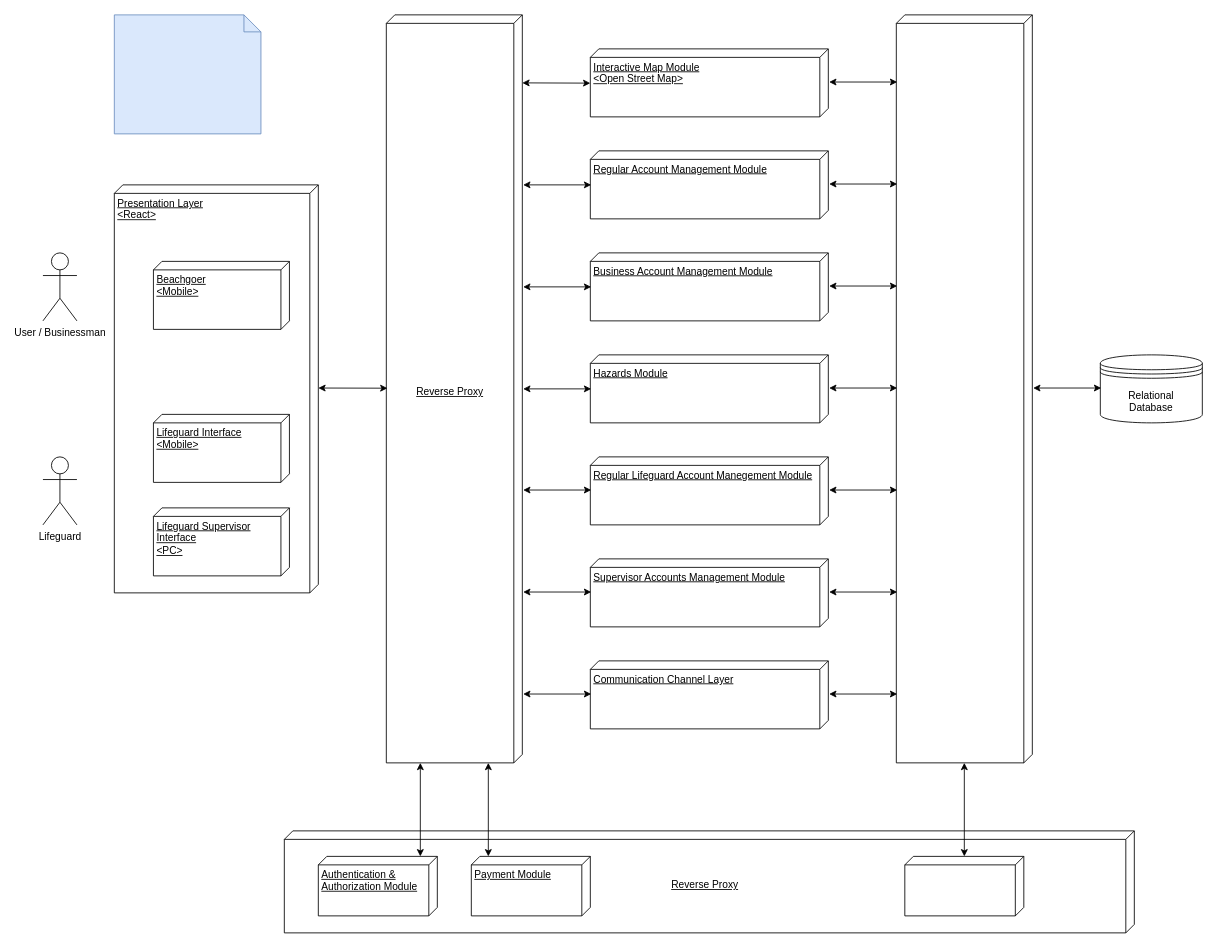
Some shapes in this 1217 by 948 pixel diagram are drawn without their labels. The centre of each missing label's shape, as x and y in pixels:
Open Street Map: [964,886]
Query Queue: [963,388]
SPLASH Grupo 14 (DR) V2024/12/03: [187,74]
